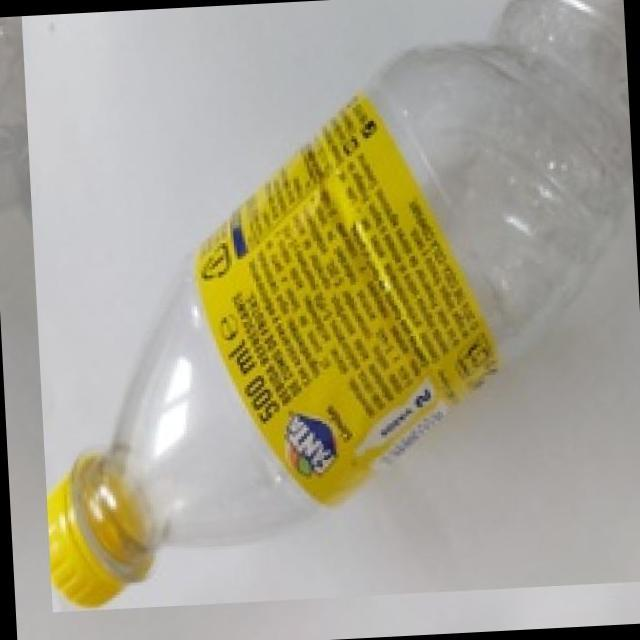good: (21, 0, 640, 611)
